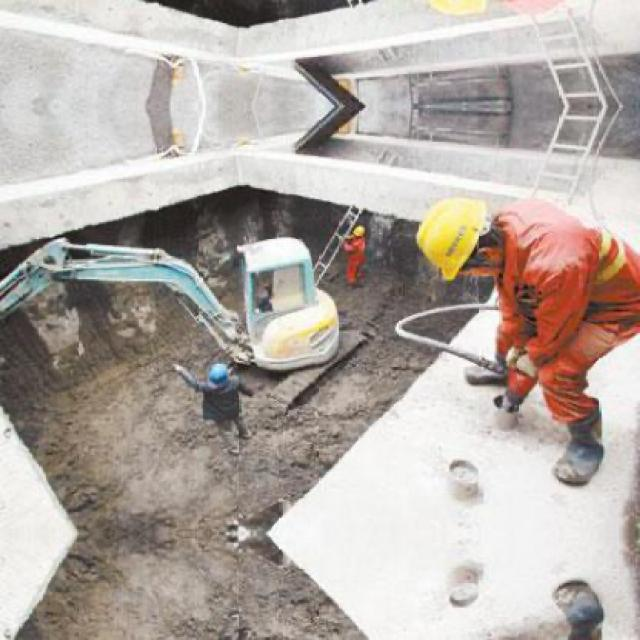helmet: (414, 196, 506, 285), (412, 0, 506, 19), (204, 364, 230, 393), (351, 224, 366, 239)
